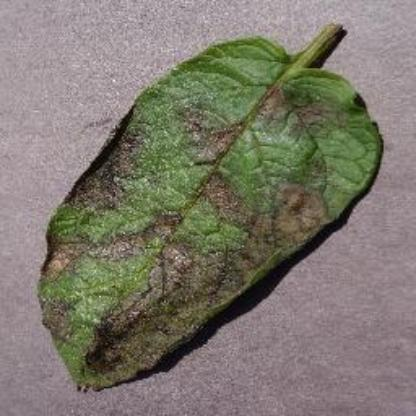Late-Blight: (37, 29, 398, 393)
